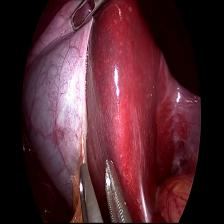Grasper: (75, 154, 137, 224), (66, 0, 107, 37)
